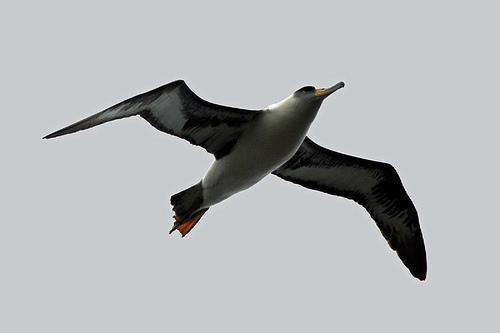002.Laysan_Albatross: (42, 79, 427, 285)
